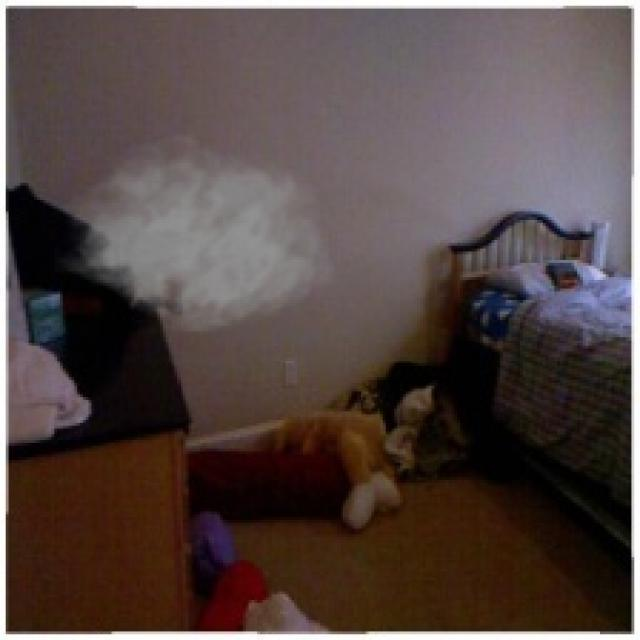Smoke: (54, 132, 337, 334)
